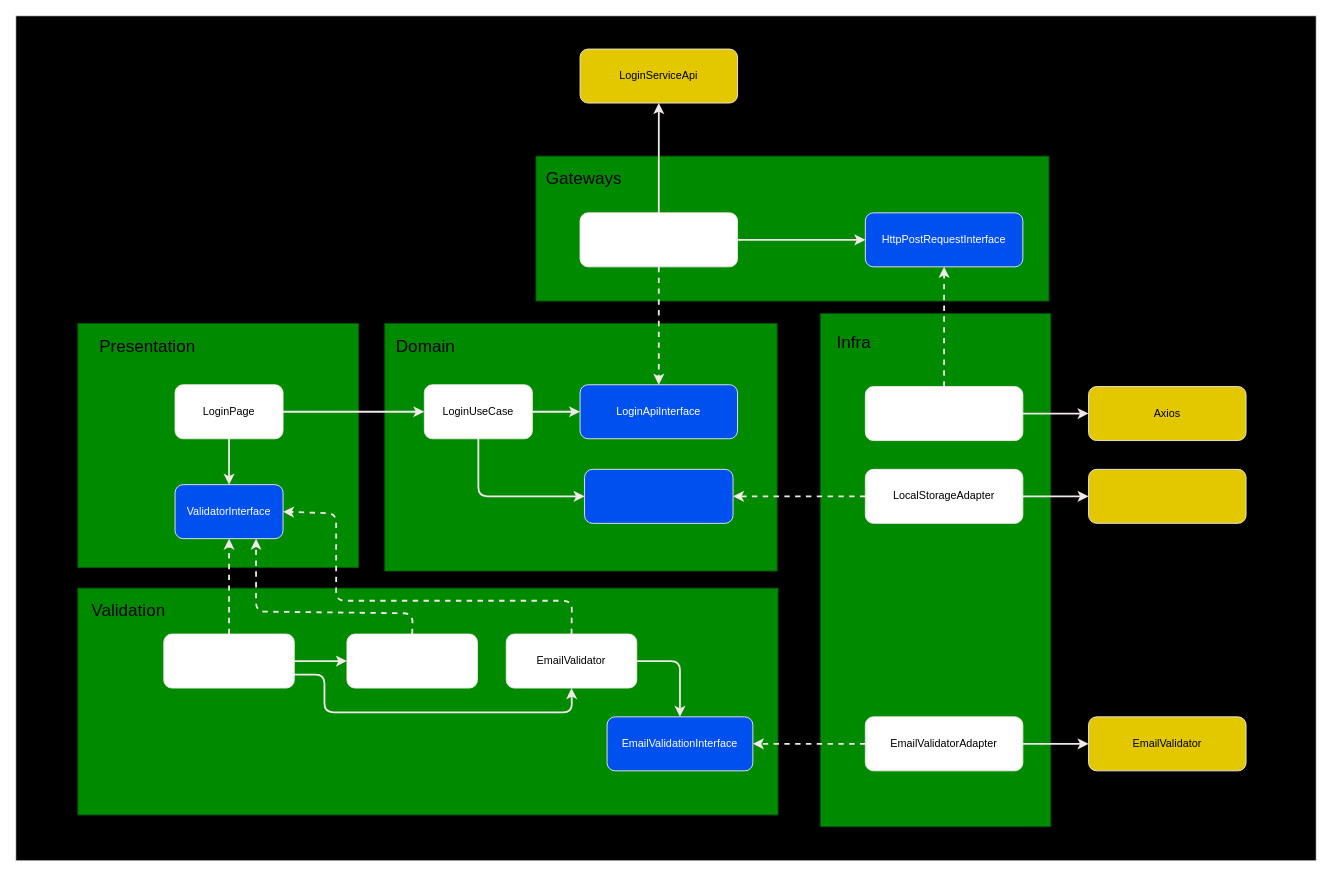
Some shapes in this 1332 by 877 pixel diagram are drawn without their labels. Here are the shapes that lost their labels. From the top down, the centre of each, then its label:
[658,239]: LoginApiGateway
[943,413]: AxiosAdapter
[658,495]: TokenStorageInterface
[1167,495]: LocalStorage
[228,660]: ValidatorComposite
[411,660]: StringValidator
